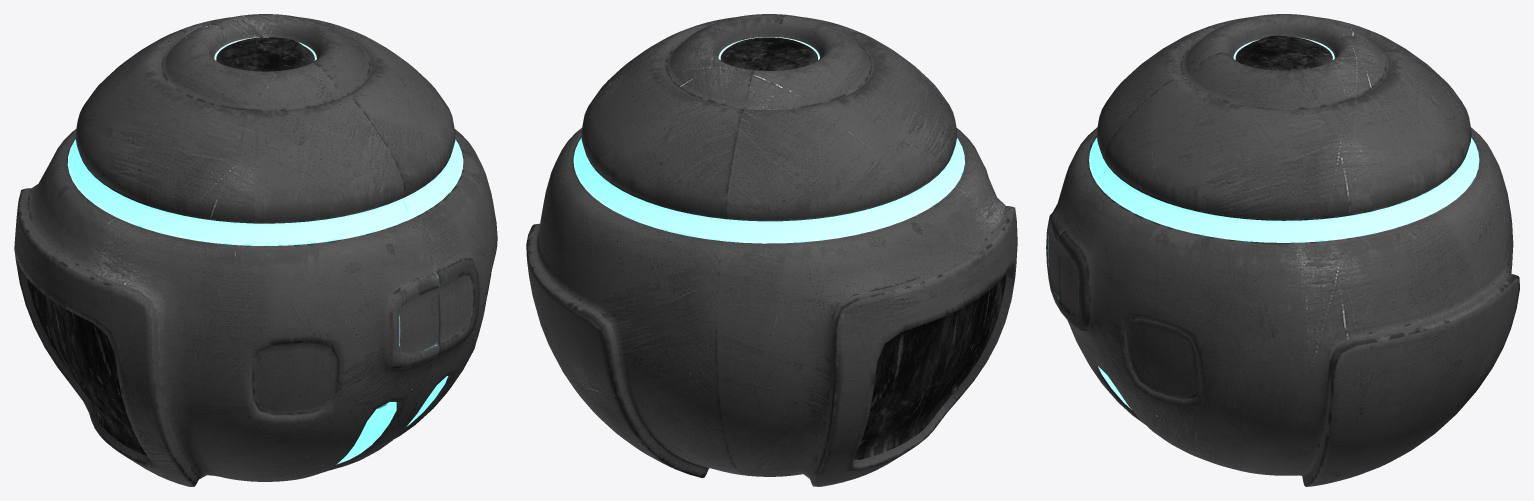
Rendered from ball_01.gltf.
The picture shows the model from 3 angles, left to right: view 1: azimuth 30°, elevation 25°; view 2: azimuth 150°, elevation 25°; view 3: azimuth 270°, elevation 25°; orthographic projection.
Parts seen in each view (by area): view 1: ball01; view 2: ball01; view 3: ball01.
Boxes of the visible parts, <box> form: ball01: <box>14,14,497,486</box>; ball01: <box>526,14,1017,486</box>; ball01: <box>1046,14,1519,486</box>.
Bounding box in the file's own units: 1.04 × 0.9598 × 1.02.
1 material, 1 textured.
